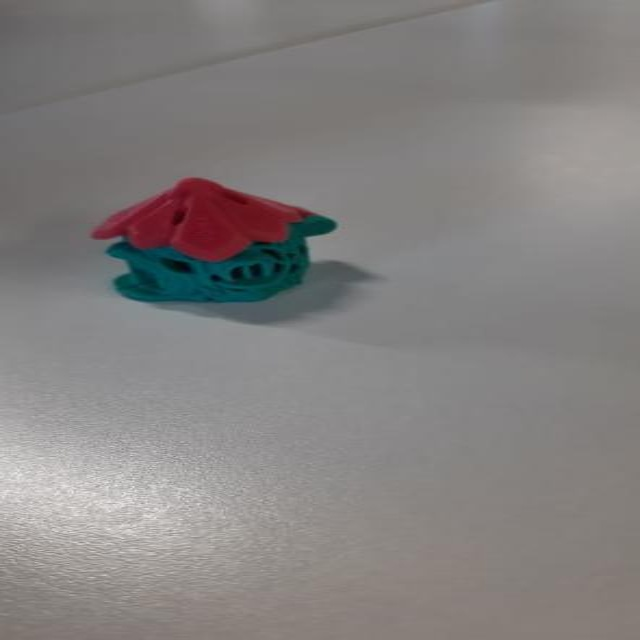House: (95, 172, 343, 320)
